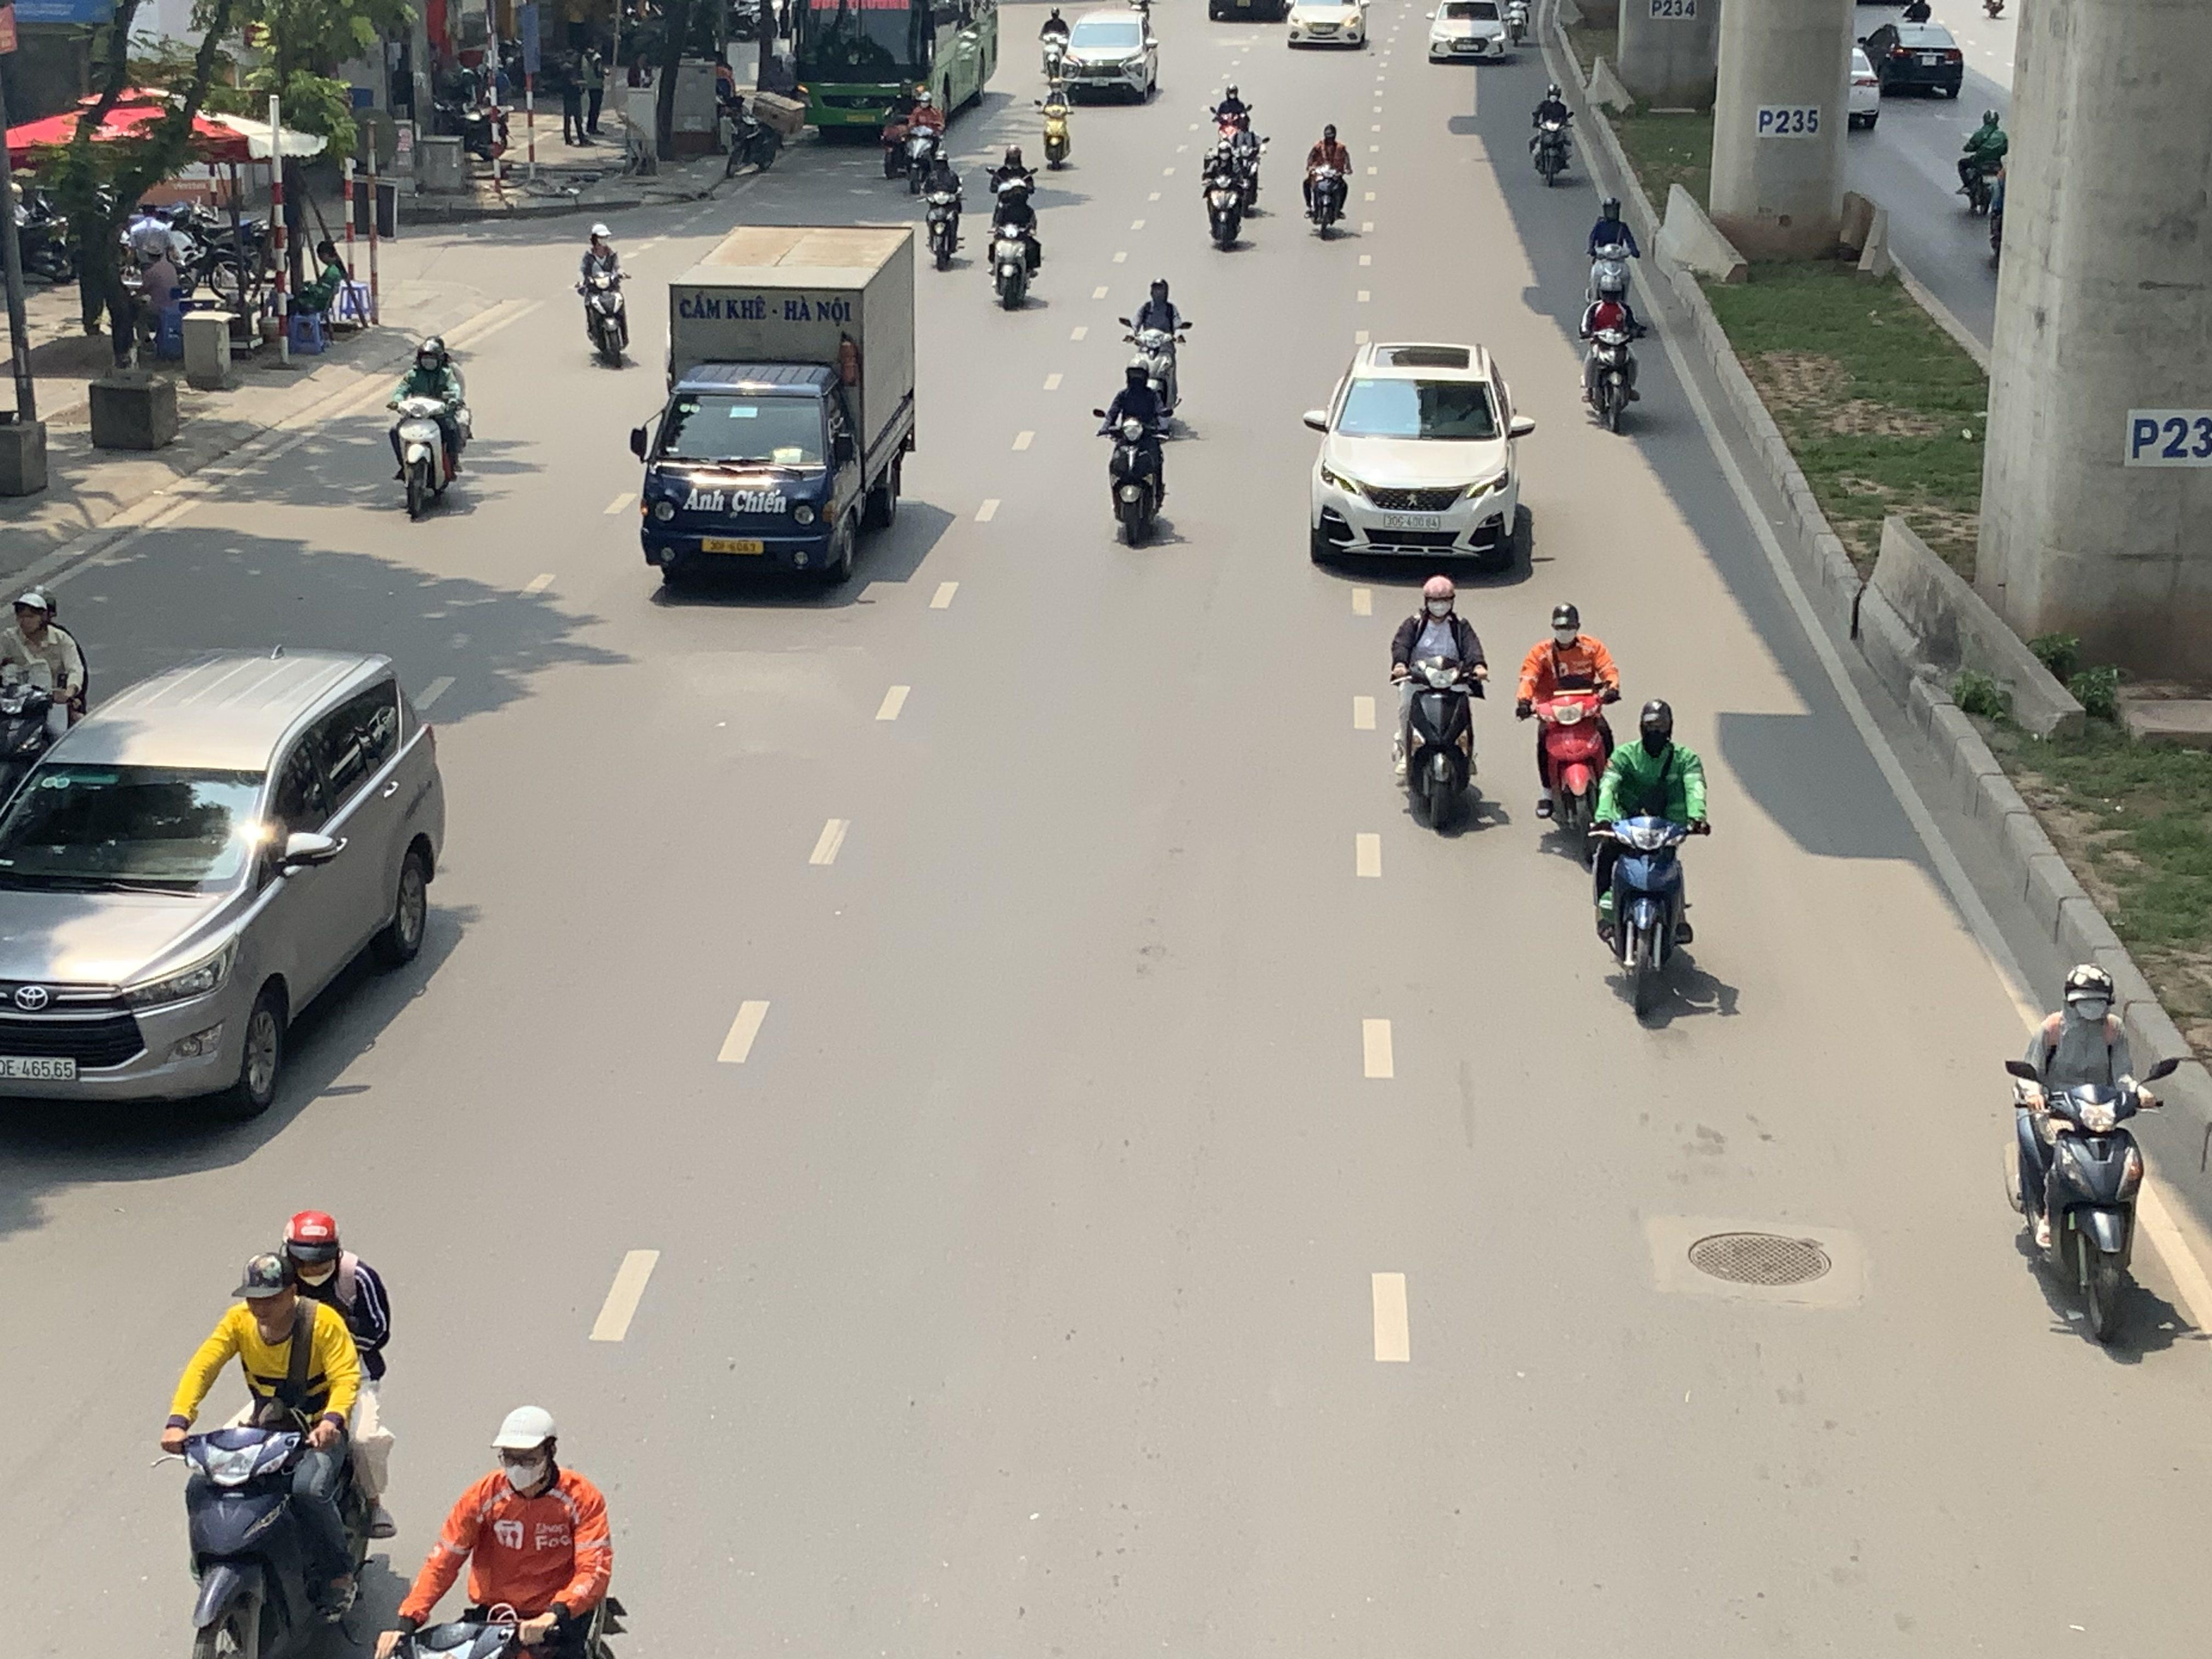BSD: (0, 1054, 78, 1080), (1383, 512, 1440, 530), (702, 538, 763, 554)
bus: (786, 0, 1001, 138)
car: (0, 647, 451, 1122), (1301, 340, 1536, 577), (1055, 10, 1162, 105), (1855, 17, 1965, 99), (1428, 0, 1519, 64), (1285, 0, 1369, 51)
motorbike: (160, 1211, 397, 1659), (2003, 962, 2170, 1351), (374, 1405, 624, 1659), (1587, 695, 1710, 1026), (1390, 575, 1487, 836), (1519, 601, 1620, 845), (0, 586, 89, 831), (387, 333, 472, 521), (1097, 357, 1176, 549), (1120, 275, 1191, 423), (1578, 272, 1642, 434), (986, 153, 1043, 310), (575, 225, 632, 369), (1200, 124, 1256, 251), (1585, 195, 1641, 312), (1301, 122, 1352, 240), (920, 143, 967, 270), (1956, 108, 2008, 218), (723, 87, 782, 178), (1529, 82, 1576, 188), (1035, 70, 1076, 171), (904, 91, 946, 186), (1207, 82, 1254, 155), (880, 85, 916, 179), (1040, 5, 1073, 84)
truck: (632, 223, 921, 589)
